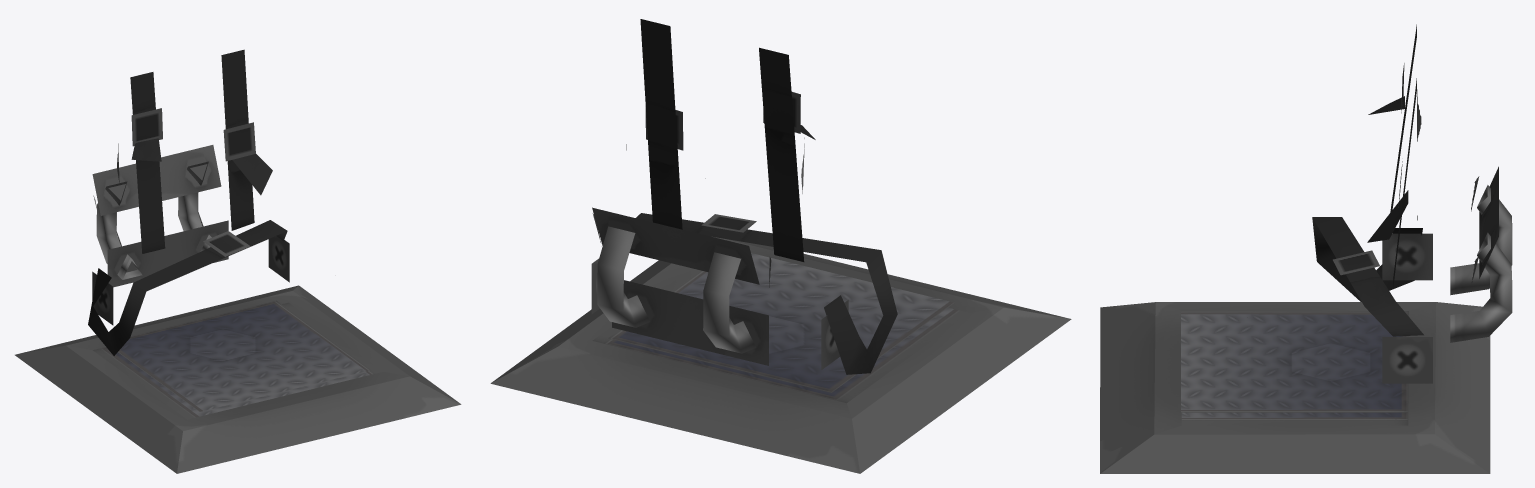
The model's file is obj_interactive_seat_01_lod1.fbx.
The picture shows the model from 3 angles, left to right: view 1: azimuth 30°, elevation 25°; view 2: azimuth 150°, elevation 25°; view 3: azimuth 270°, elevation 25°; orthographic projection. The views are drawn at different scales.
Visible parts, largest first — view 1: obj_interactive_seat_03; view 2: obj_interactive_seat_03; view 3: obj_interactive_seat_03.
Boxes of the visible parts, x1,y1,x2,y2 form: obj_interactive_seat_03: (15,49,461,473); obj_interactive_seat_03: (490,19,1071,473); obj_interactive_seat_03: (1100,24,1512,473).
Size of the model in its own units: 3.5 by 3.45 by 3.73.
Materials: 1 (1 with a texture image).
